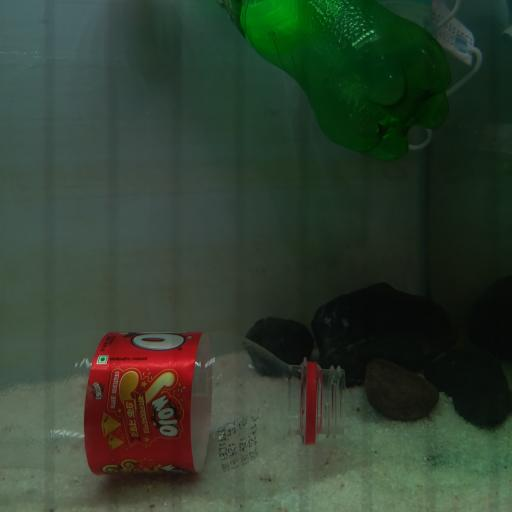mask: (404, 2, 488, 153)
plastic_bottle: (2, 331, 344, 472), (215, 0, 453, 162)
